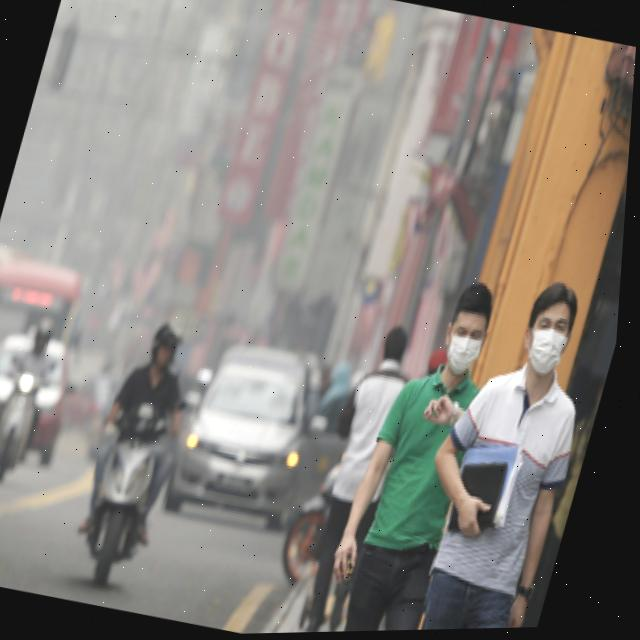Mask: (437, 328, 490, 382), (523, 327, 574, 380)
